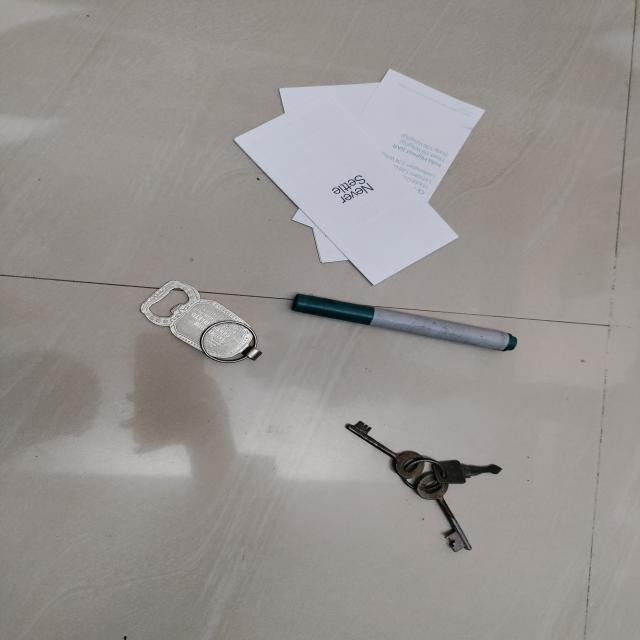metal: (341, 419, 499, 555), (142, 280, 264, 364)
paper: (235, 52, 487, 284)
plastic: (288, 289, 520, 358)
